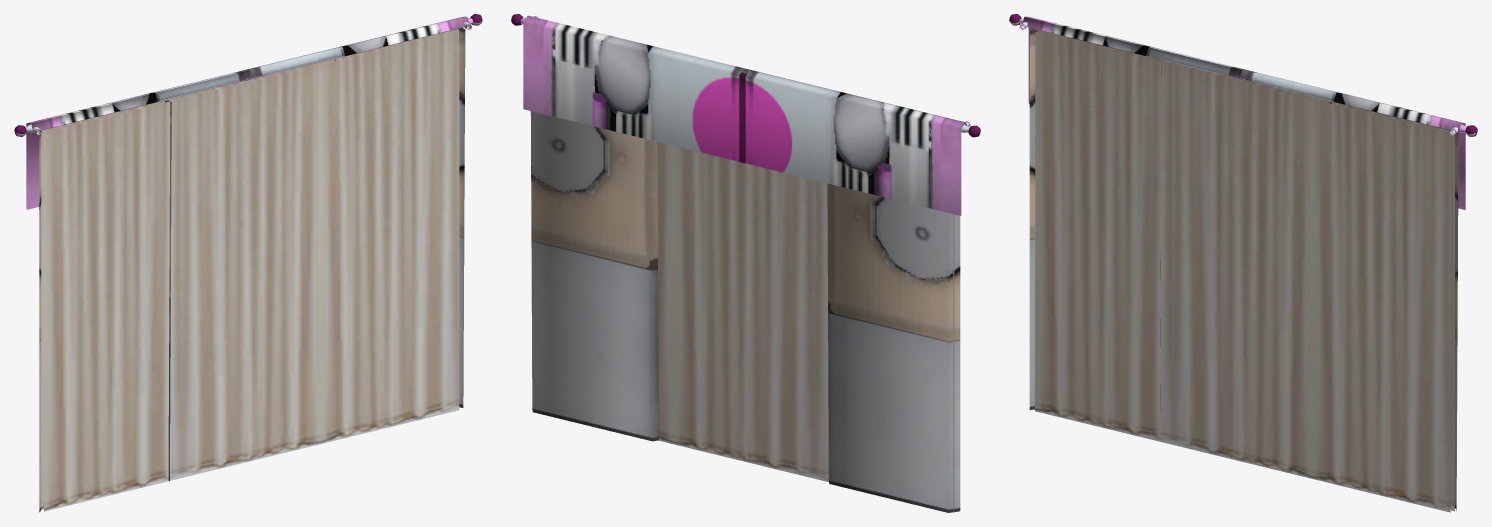
The model's file is furni_0200529.FBX.
3 views of the same model, side by side, from view 1: azimuth 30°, elevation 25°; view 2: azimuth 150°, elevation 25°; view 3: azimuth 330°, elevation 25° (orthographic).
Visible parts, largest first — view 1: furni_0200529; view 2: furni_0200529; view 3: furni_0200529.
Part boxes in pixels (x1,y1,x2,y2): furni_0200529: [14, 14, 482, 512]; furni_0200529: [511, 14, 980, 512]; furni_0200529: [1009, 14, 1477, 512].
Size of the model in its own units: 333 by 267 by 12.47.
2 materials, 2 textured.
